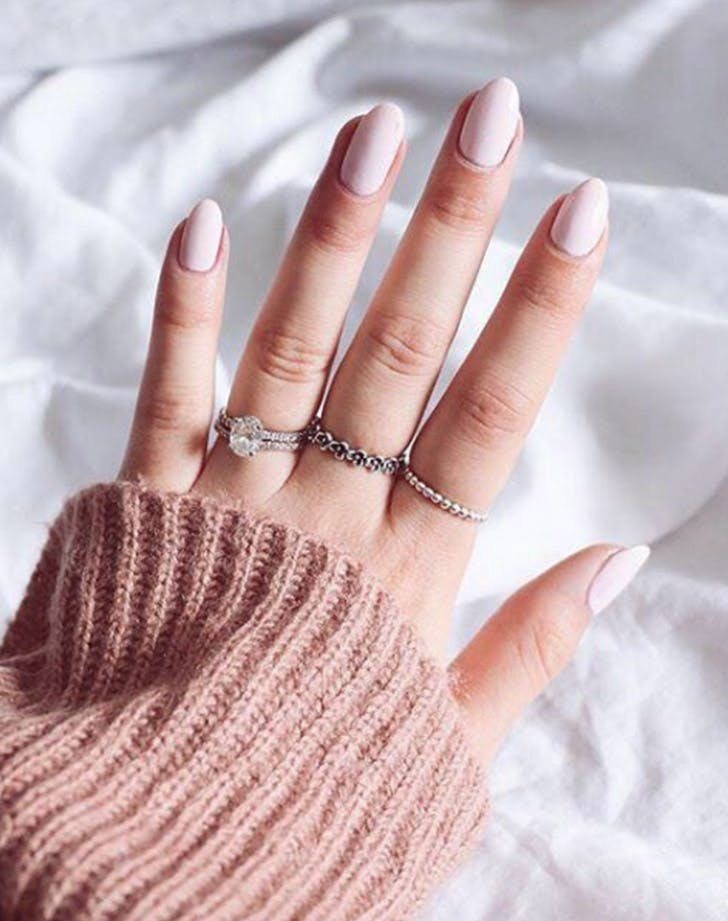nails: (449, 69, 531, 172), (333, 96, 409, 198), (542, 169, 618, 261), (582, 534, 654, 621), (174, 192, 229, 280)
